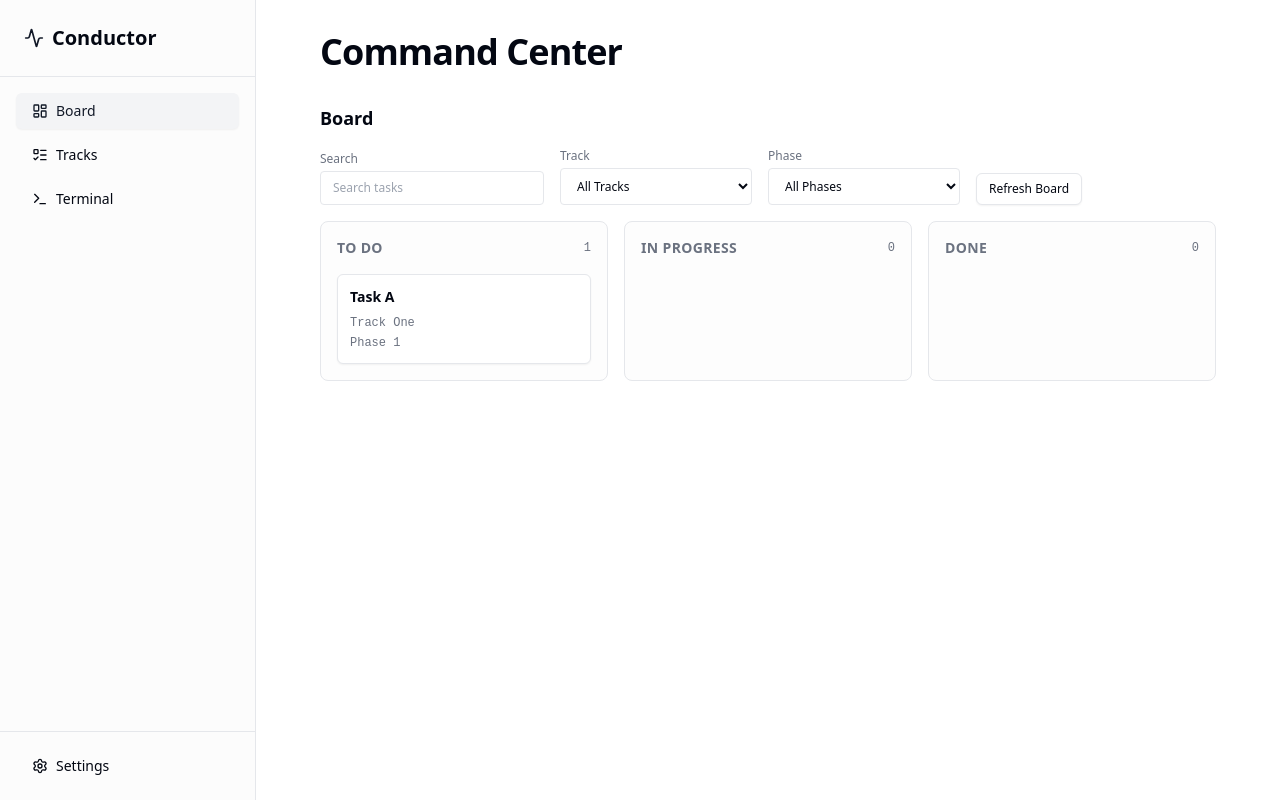
Scenario: App Component › shows a track error when project path is missing
What coordinates should you click on to do the following:
click the button "Tracks"
I would click on:
 (128, 155)
Its box is left=16, top=137, right=239, bottom=173.
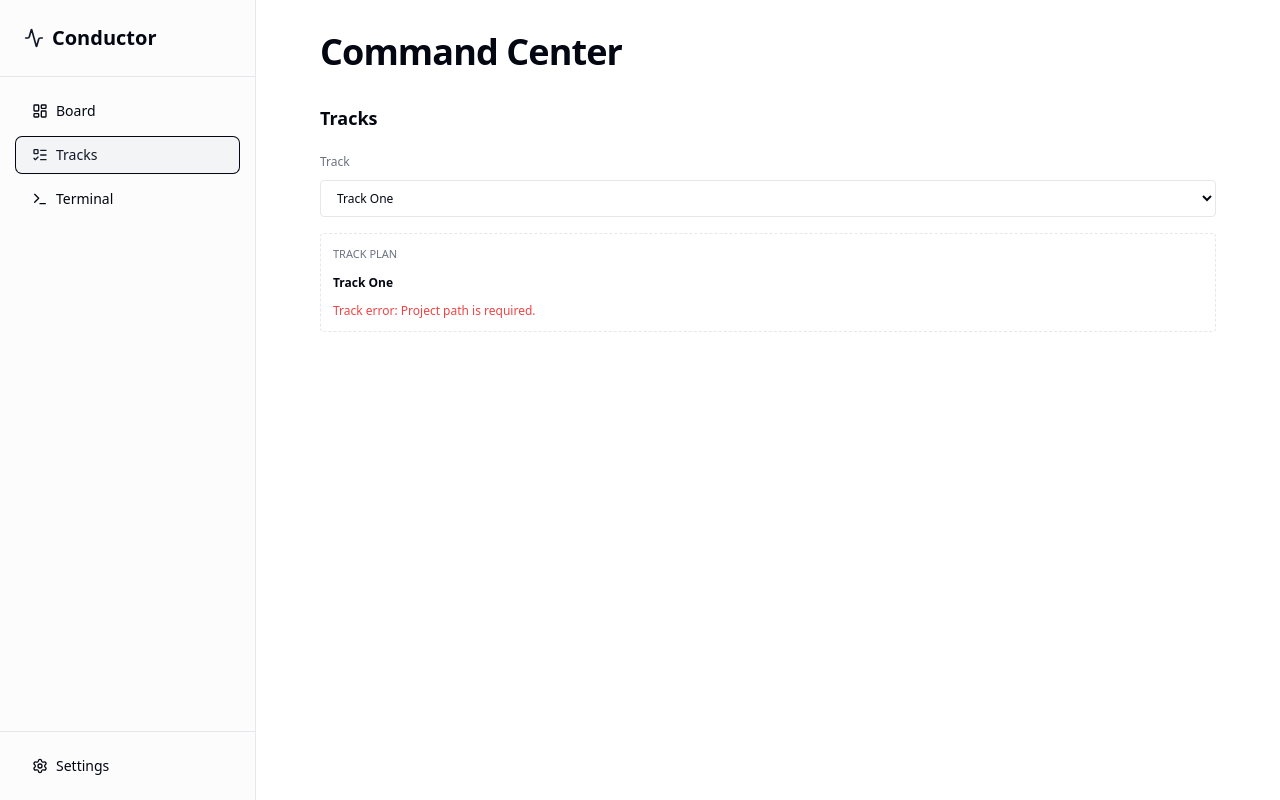
Now the text "Track error: Project path is required." is shown, box left=333, top=302, right=536, bottom=318
